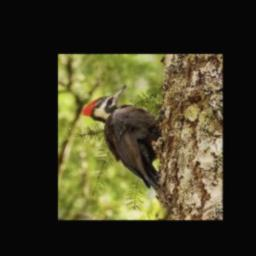Woodpecker: (82, 84, 162, 191)
